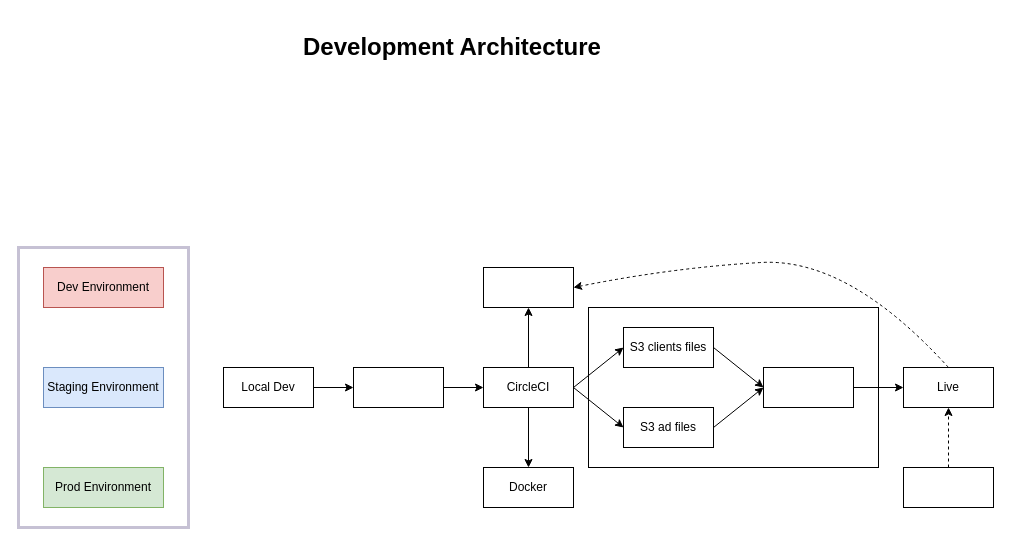
The diagram is 1011 pixels wide and 546 high, and some of its shapes have lost their labels. The centre of each missing label's shape, as x and y in pixels:
Cloud Front: the point at 808,387
Github: the point at 398,387
Sentry: the point at 948,487
Slack: the point at 528,287
